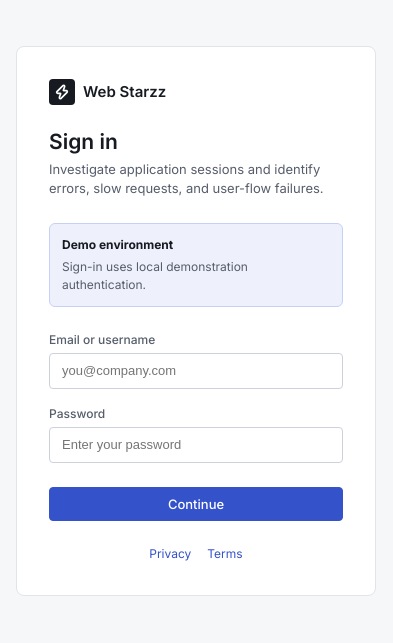
Scenario: Login › shows a generic credential error when authentication rejects the sign-in
The width and height of the screenshot is (393, 643).
Expected: the heading "Sign in" is shown, [49,129,118,154]
Type "demo@webstarzz.local" into the field labelled "Email or username" at (196, 371), box [49,353,343,389]
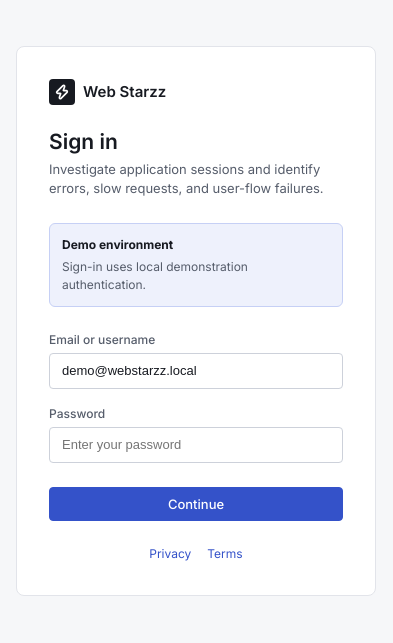
Type "wrong-password" into the password field labelled "Password" at (196, 445), box [49,427,343,463]
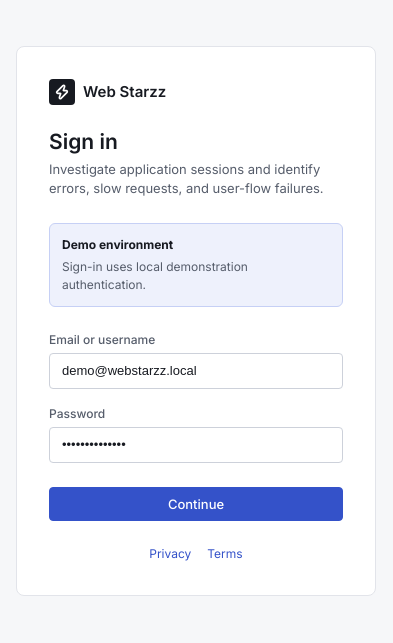
Click the button "Continue" at (196, 504), box [49,487,343,521]
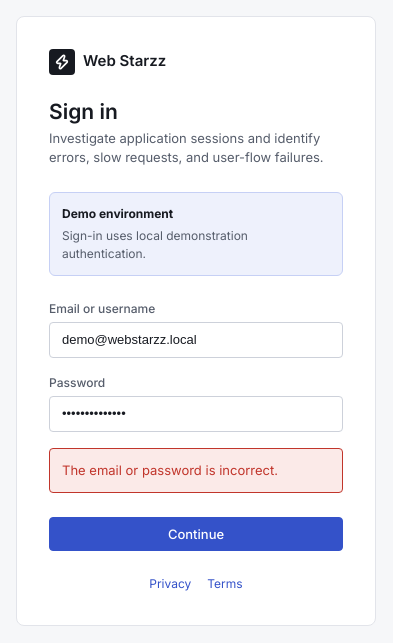
Expected: the message reads "The email or password is incorrect.", [62,462,278,478]
